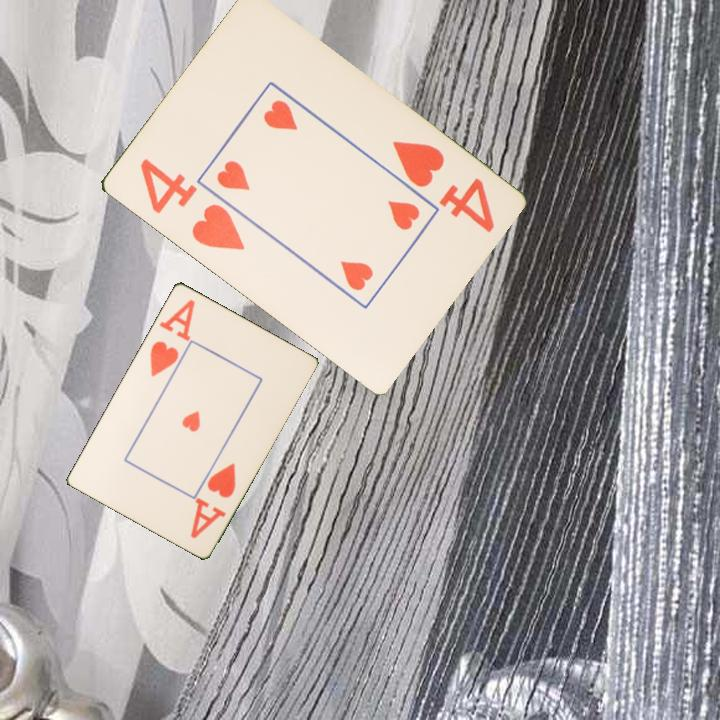4h: (135, 155, 247, 254), (388, 137, 497, 236)
Ah: (146, 295, 198, 380), (187, 459, 239, 541)
